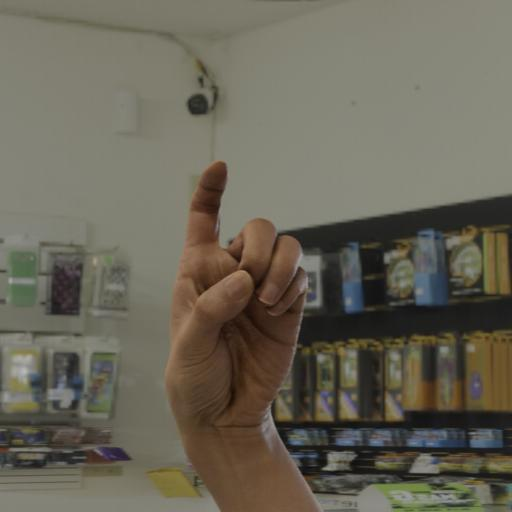X: (158, 161, 314, 427)
